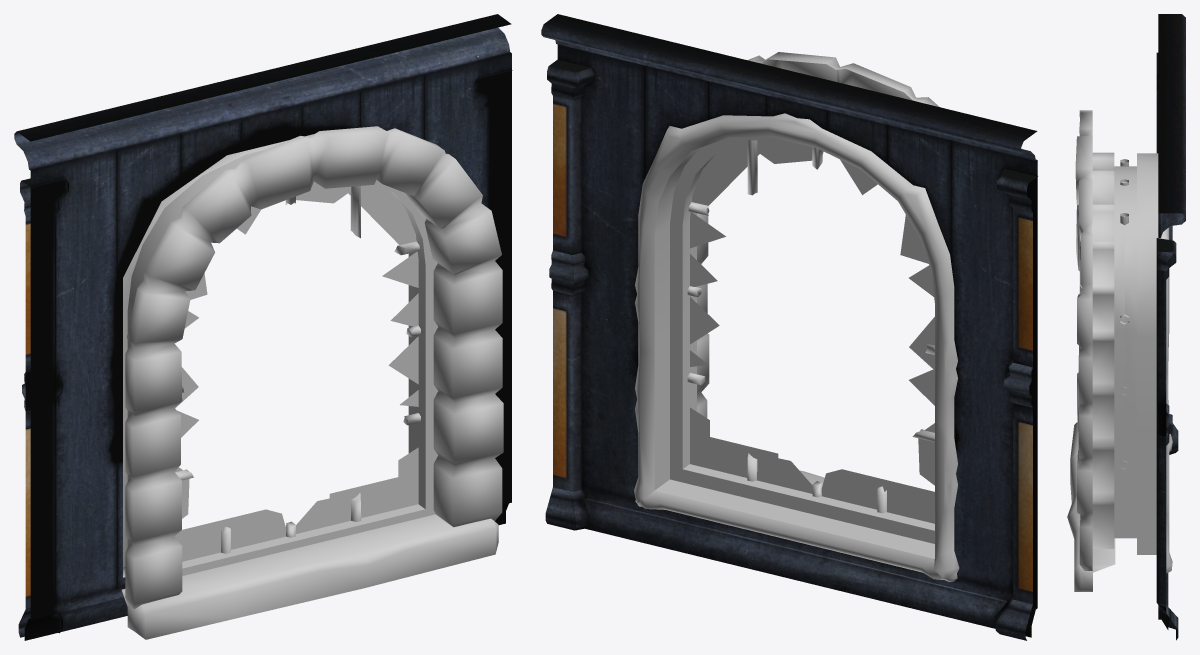
Rendered from window_large_blue_broken_blue.dae.
3 renders of one model, left to right at view 1: azimuth 30°, elevation 25°; view 2: azimuth 150°, elevation 25°; view 3: azimuth 270°, elevation 25°, orthographic. The views are drawn at different scales.
Visible parts, largest first — view 1: window_large_02_blue11, polySurface639, polySurface640, window_frame_no_boards, broken_glass, polySurface699; view 2: window_large_02_blue11, window_frame_no_boards, broken_glass, polySurface639, polySurface699; view 3: window_frame_no_boards, polySurface639, window_large_02_blue11, polySurface640, polySurface699.
Part boxes in pixels (x1,y1,x2,y2): window_large_02_blue11: [14, 14, 512, 640]; polySurface639: [125, 126, 503, 609]; polySurface640: [121, 514, 498, 639]; window_frame_no_boards: [123, 134, 437, 577]; broken_glass: [174, 181, 418, 561]; polySurface699: [175, 186, 420, 553]; window_large_02_blue11: [541, 14, 1037, 640]; window_frame_no_boards: [634, 113, 959, 581]; broken_glass: [690, 140, 934, 523]; polySurface639: [697, 52, 939, 417]; polySurface699: [687, 140, 934, 513]; window_frame_no_boards: [1114, 153, 1172, 573]; polySurface639: [1075, 110, 1114, 570]; window_large_02_blue11: [1156, 14, 1185, 640]; polySurface640: [1067, 422, 1115, 591]; polySurface699: [1120, 159, 1129, 469].
Bounding box in the file's own units: 4 × 4 × 1.01.
